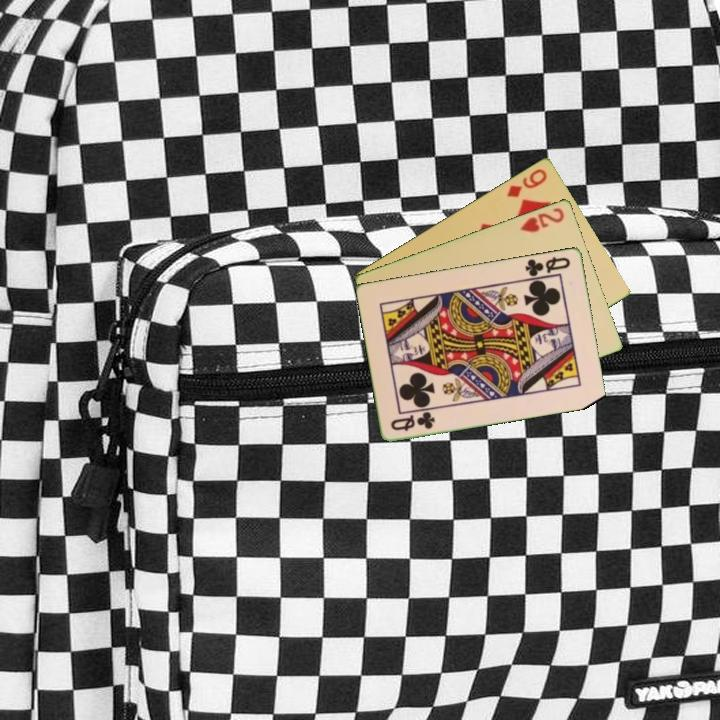2h: (517, 204, 567, 235)
9d: (503, 165, 550, 200)
Qc: (522, 253, 573, 279), (387, 408, 438, 434)
